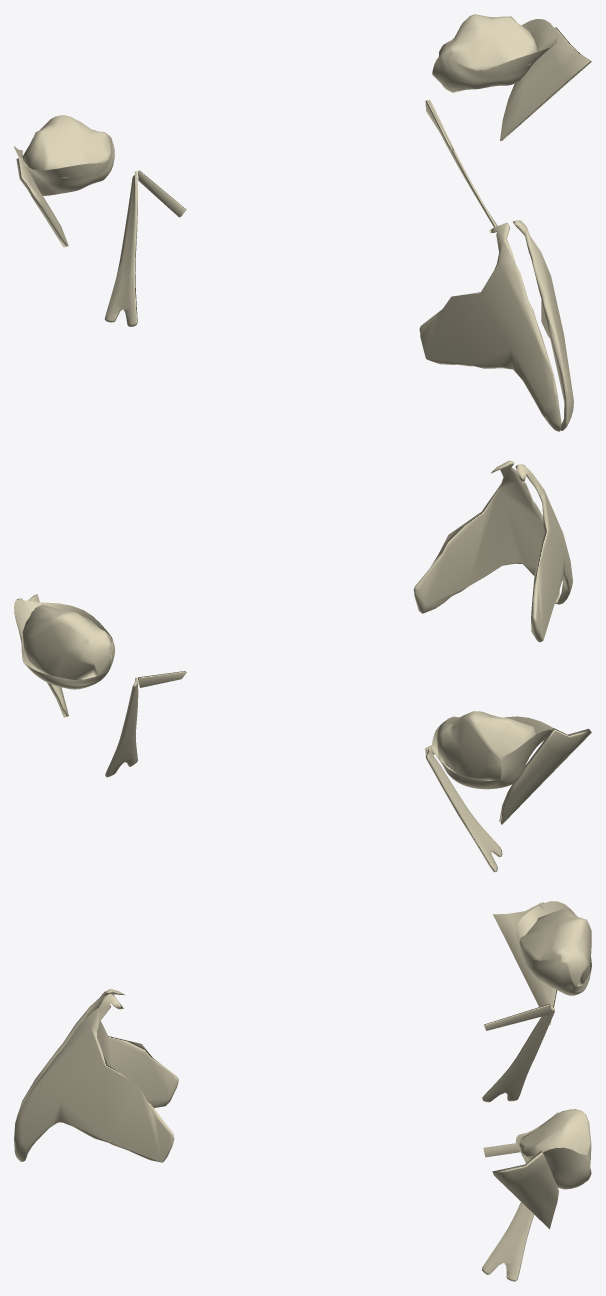
File: joints.head.glb
The picture shows the model from 3 angles, top to bottom: view 1: azimuth 30°, elevation 25°; view 2: azimuth 150°, elevation 25°; view 3: azimuth 270°, elevation 25°; orthographic projection. The views are drawn at different scales.
Parts seen in each view (by area): view 1: right_lateral_process_of_nasal_septal_cartilage, left_articular_disc_of_temporomandibular_joint, left_lateral_temporomandibular_ligament, right_articular_disc_of_temporomandibular_joint, left_articular_capsule_of_temporomandibular_joint, left_lateral_process_of_nasal_septal_cartilage, right_sphenomandibular_ligament, right_articular_capsule_of_temporomandibular_joint, right_lateral_temporomandibular_ligament, right_pterygospinous_ligament, left_sphenomandibular_ligament; view 2: left_lateral_process_of_nasal_septal_cartilage, left_articular_disc_of_temporomandibular_joint, right_articular_disc_of_temporomandibular_joint, right_lateral_process_of_nasal_septal_cartilage, right_lateral_temporomandibular_ligament, right_articular_capsule_of_temporomandibular_joint, left_articular_capsule_of_temporomandibular_joint, right_sphenomandibular_ligament, left_sphenomandibular_ligament; view 3: left_lateral_process_of_nasal_septal_cartilage, right_lateral_process_of_nasal_septal_cartilage, right_articular_disc_of_temporomandibular_joint, left_lateral_temporomandibular_ligament, left_articular_disc_of_temporomandibular_joint, right_articular_capsule_of_temporomandibular_joint, right_sphenomandibular_ligament, left_sphenomandibular_ligament, left_articular_capsule_of_temporomandibular_joint, right_lateral_temporomandibular_ligament, right_pterygospinous_ligament.
Part boxes in pixels (x1,y1,x2,y2): right_lateral_process_of_nasal_septal_cartilage: [419, 223, 561, 431]; left_articular_disc_of_temporomandibular_joint: [439, 14, 538, 70]; left_lateral_temporomandibular_ligament: [500, 27, 591, 140]; right_articular_disc_of_temporomandibular_joint: [22, 115, 111, 178]; left_articular_capsule_of_temporomandibular_joint: [432, 19, 557, 92]; left_lateral_process_of_nasal_septal_cartilage: [513, 220, 573, 430]; right_sphenomandibular_ligament: [105, 171, 137, 326]; right_articular_capsule_of_temporomandibular_joint: [14, 137, 114, 195]; right_lateral_temporomandibular_ligament: [16, 157, 68, 247]; right_pterygospinous_ligament: [138, 170, 186, 217]; left_sphenomandibular_ligament: [428, 100, 497, 227]; left_lateral_process_of_nasal_septal_cartilage: [413, 460, 559, 613]; left_articular_disc_of_temporomandibular_joint: [22, 604, 111, 679]; right_articular_disc_of_temporomandibular_joint: [436, 711, 536, 780]; right_lateral_process_of_nasal_septal_cartilage: [515, 464, 572, 642]; right_lateral_temporomandibular_ligament: [499, 728, 591, 824]; right_articular_capsule_of_temporomandibular_joint: [432, 716, 553, 789]; left_articular_capsule_of_temporomandibular_joint: [14, 599, 114, 689]; right_sphenomandibular_ligament: [426, 749, 502, 872]; left_sphenomandibular_ligament: [105, 677, 138, 777]; left_lateral_process_of_nasal_septal_cartilage: [14, 993, 174, 1162]; right_lateral_process_of_nasal_septal_cartilage: [15, 989, 178, 1125]; right_articular_disc_of_temporomandibular_joint: [520, 909, 591, 986]; left_lateral_temporomandibular_ligament: [492, 1151, 558, 1229]; left_articular_disc_of_temporomandibular_joint: [519, 1109, 591, 1159]; right_articular_capsule_of_temporomandibular_joint: [516, 901, 591, 995]; right_sphenomandibular_ligament: [482, 1003, 554, 1102]; left_sphenomandibular_ligament: [482, 1202, 534, 1281]; left_articular_capsule_of_temporomandibular_joint: [515, 1125, 591, 1189]; right_lateral_temporomandibular_ligament: [493, 902, 557, 1025]; right_pterygospinous_ligament: [484, 1003, 551, 1030].
Bounding box in the file's own units: 0.1234 × 0.044 × 0.1155.
